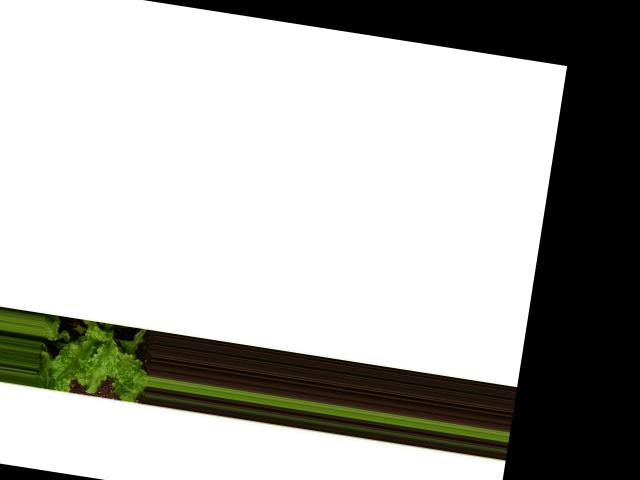lettuce: (34, 308, 155, 400)
